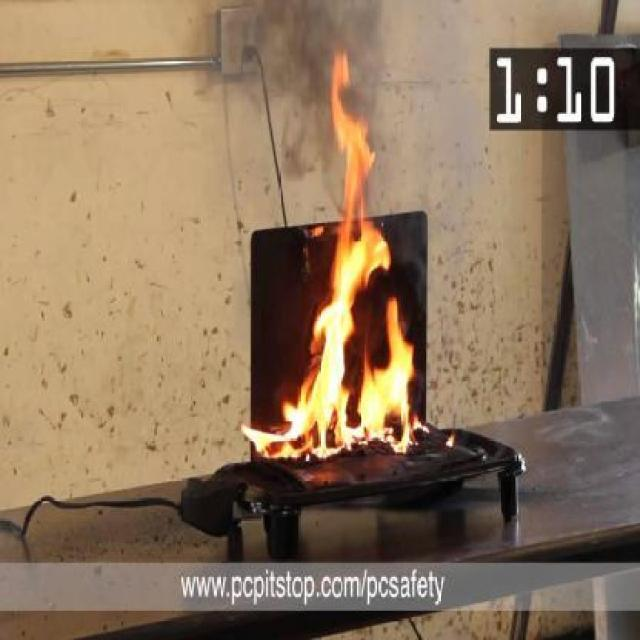Fire: (253, 90, 460, 478)
Smoke: (223, 0, 463, 248)
